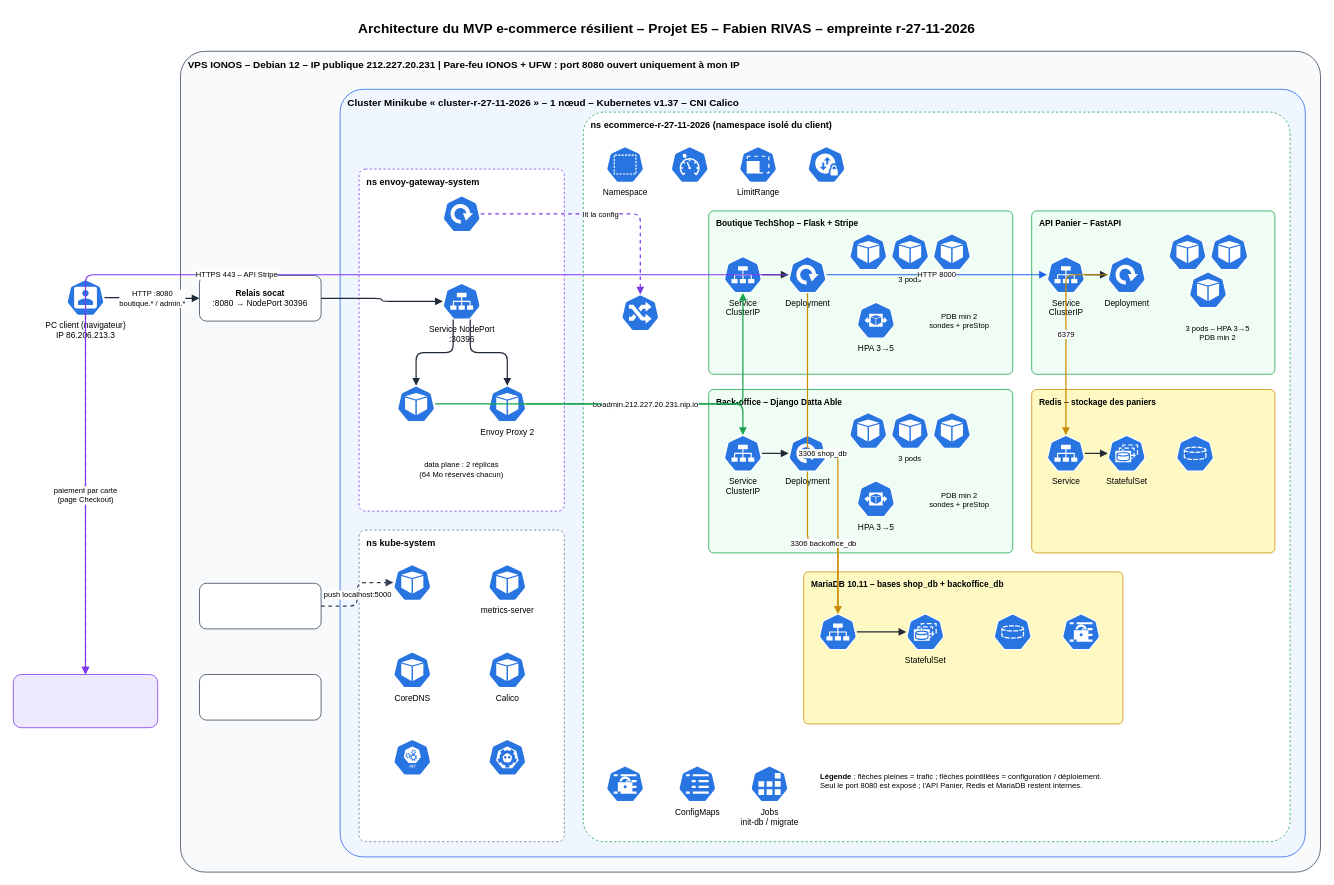
Some shapes in this 1334 by 885 pixel diagram are drawn without their labels. The shapes that lost their labels are listed below. From the top down, each one's centre as x and y in pixels, then its label:
At point 689,164: "ResourceQuota".
At point 826,164: "NetworkPolicy default-deny + règles".
At point 461,213: "envoy-gateway (control plane)".
At point 640,312: "Gateway + 2 HTTPRoutes".
At point 415,403: "Envoy Proxy 1".
At point 1194,453: "PVC 1 Gi (AOF)".
At point 412,582: "registry :5000".
At point 260,606: "Docker build + push des 3 images".
At point 837,631: "Service headless".
At point 1012,631: "PVC 2 Gi".
At point 1080,631: "Secrets DB".
At point 85,701: "Stripe API + page Checkout (mode test)".
At point 260,697: "Dépôt Git GitHub (manifests, code)".
At point 412,757: "API Server".
At point 507,757: "etcd".
At point 624,783: "7 Secrets (Stripe, BDD…)".
